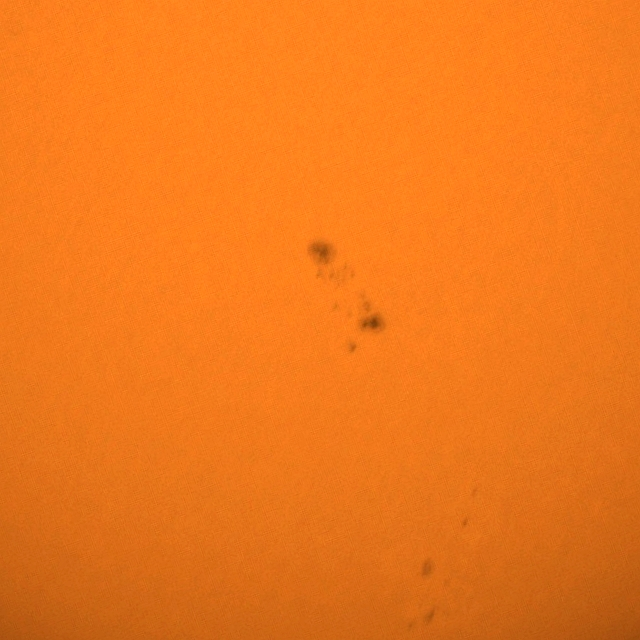sunspot: (306, 239, 341, 281), (359, 299, 384, 334)
